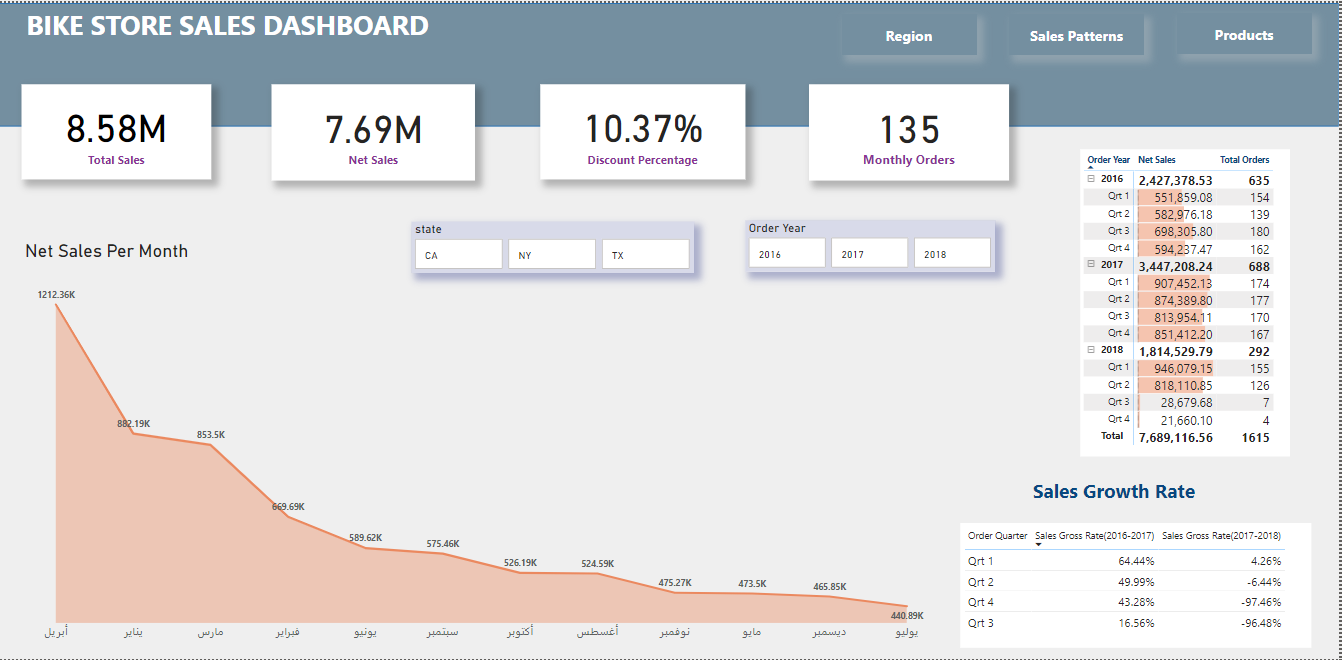

This screenshot's page, from the dashboard's own definition file:
{"tool":"powerbi","page":{"name":"Sales Patterns","canvas":[1880,920],"ordinal":1},"visuals":[{"type":"shape","box":[0,0,1880.4,173.2],"z":0},{"type":"textbox","box":[33.3,0,619.3,71.9],"z":1000},{"type":"card","fields":{"Values":["DAX_Measures.Total Sales"]},"box":[31.6,114,266.7,133.3],"z":2000},{"type":"card","fields":{"Values":["DAX_Measures.Total Revenue"]},"box":[382.5,114,286,135.1],"z":3000},{"type":"card","fields":{"Values":["DAX_Measures.Discount Percentage"]},"box":[759.6,114,287.7,133.3],"z":4000},{"type":"areaChart","title":"Net Sales Per Month","fields":{"Category":["Orders.Order Month"],"Y":["DAX_Measures.Net Sales"]},"box":[31.6,333.3,1291.2,571.9],"z":5000},{"type":"pivotTable","fields":{"Rows":["Orders.Order Year","Orders.Order Quarter"],"Values":["DAX_Measures.Net Sales","DAX_Measures.Total Orders"]},"box":[1517.5,205.3,294.7,431.6],"z":6000},{"type":"advancedSlicerVisual","fields":{"Values":["Orders.Order Year"]},"box":[1047.4,305.3,350.9,71.9],"z":7000},{"type":"advancedSlicerVisual","fields":{"Values":["Customers.state"]},"box":[578.9,307,396.5,71.9],"z":8000},{"type":"textbox","box":[1371.9,661.4,393,56.1],"z":9000},{"type":"card","fields":{"Values":["DAX_Measures.Monthly Orders"]},"box":[1136.8,114,280.7,135.1],"z":10000},{"type":"actionButton","box":[1182.5,15.8,189.5,57.9],"z":11000},{"type":"actionButton","box":[1417.5,15.8,189.5,57.9],"z":12000},{"type":"actionButton","box":[1652.6,14,189.5,57.9],"z":13000},{"type":"tableEx","fields":{"Values":["Orders.Order Quarter","DAX_Measures.Sales Gross Rate(2016-2017)","DAX_Measures.Sales Gross Rate(2017-2018)"]},"box":[1349.1,729.8,493,175.4],"z":14000}]}

Visuals, with their boxes in screenshot pixels (x1, y1, x2, y2), scaled from the page's 1880x920 canvas onto the 1342x660 screenshot:
shape: pyautogui.locateOnScreen(0, 0, 1341, 124)
textbox: pyautogui.locateOnScreen(24, 0, 466, 52)
card - DAX_Measures.Total Sales: pyautogui.locateOnScreen(23, 82, 213, 177)
card - DAX_Measures.Total Revenue: pyautogui.locateOnScreen(273, 82, 477, 179)
card - DAX_Measures.Discount Percentage: pyautogui.locateOnScreen(542, 82, 748, 177)
"Net Sales Per Month" areaChart: pyautogui.locateOnScreen(23, 239, 944, 649)
pivotTable - Orders.Order Year x Orders.Order Quarter: pyautogui.locateOnScreen(1083, 147, 1294, 457)
advancedSlicerVisual - Orders.Order Year: pyautogui.locateOnScreen(748, 219, 998, 271)
advancedSlicerVisual - Customers.state: pyautogui.locateOnScreen(413, 220, 696, 272)
textbox: pyautogui.locateOnScreen(979, 474, 1260, 515)
card - DAX_Measures.Monthly Orders: pyautogui.locateOnScreen(811, 82, 1012, 179)
actionButton: pyautogui.locateOnScreen(844, 11, 979, 53)
actionButton: pyautogui.locateOnScreen(1012, 11, 1147, 53)
actionButton: pyautogui.locateOnScreen(1180, 10, 1315, 52)
tableEx - Orders.Order Quarter x DAX_Measures.Sales Gross Rate(2016-2017): pyautogui.locateOnScreen(963, 524, 1315, 649)
